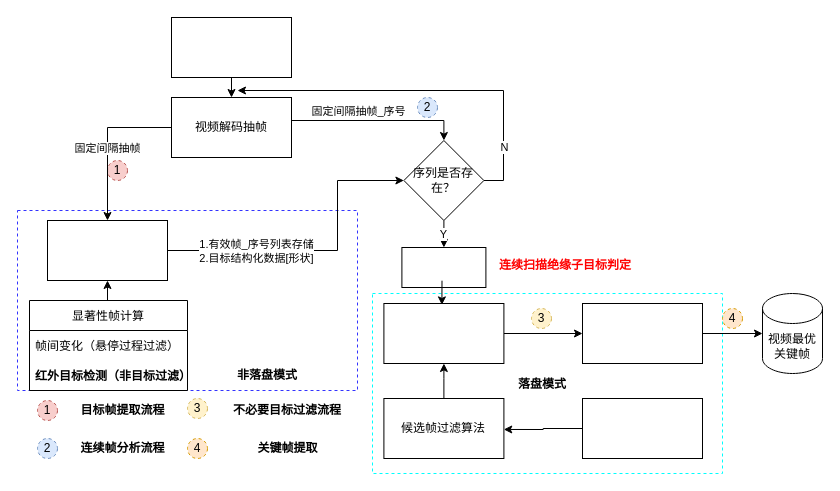
This 840x491 diagram has some shape labels left out. Each missing label, with the centre of its shape:
候选帧聚类: point (443, 333)
基于巡检流程的智能抽帧分析: point (642, 428)
提取候选帧集: point (107, 250)
提取最优关键帧: point (642, 333)
视频数据: point (231, 47)
连续序列判定: point (443, 267)
